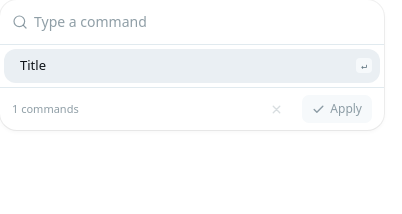
Test: CommandPalette text slot › shows 'Press Enter to use' the typed value and stages it as a chip on Enter
Step 1. Click the text "Title" → (33, 65), box [20,56,46,74]
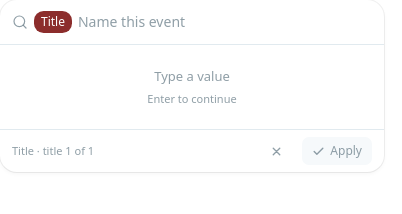
Check: the text "Type a value" is shown, box [154,67,230,85]
Step 2. Type "Renewal check-in — Q4 kickoff" into the dropdown → (225, 22), box [78,10,372,34]
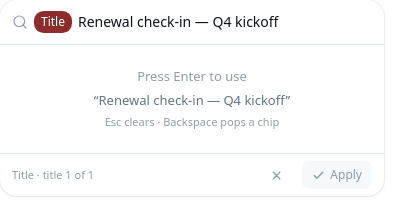
Check: the text "Press Enter to use" is shown, box [137,67,247,85]
Step 3. Press Enter in the dropdown, box [78,10,372,34]
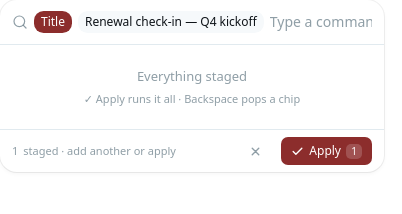
Check: the button with aria-label "Change Renewal check-in" is shown, box [78,11,264,33]
Check: the button with aria-label "Apply 1 staged command" is shown, box [281,137,372,165]
